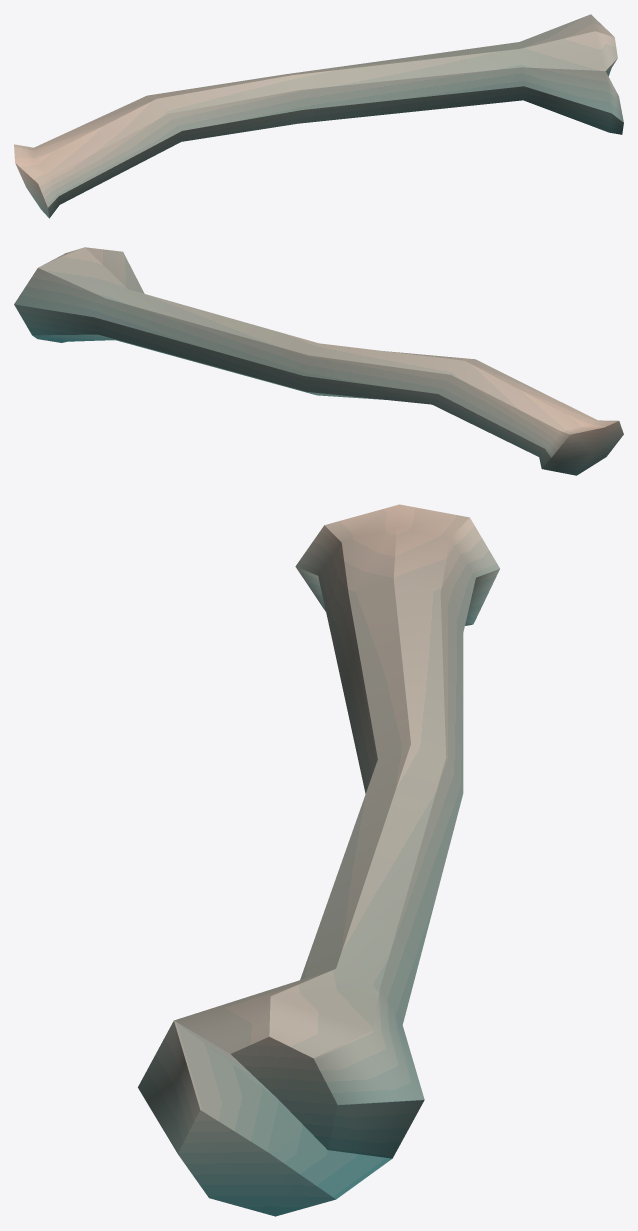
The model's file is Bone2.fbx.
3 renders of one model, top to bottom at view 1: azimuth 30°, elevation 25°; view 2: azimuth 150°, elevation 25°; view 3: azimuth 270°, elevation 25°, orthographic. The views are drawn at different scales.
Visible parts, largest first — view 1: Bone2; view 2: Bone2; view 3: Bone2.
Boxes of the visible parts, x1,y1,x2,y2 form: Bone2: (14,14,623,218); Bone2: (14,247,623,475); Bone2: (138,504,499,1216).
Size of the model in its own units: 2.91 by 0.5216 by 0.7872.
